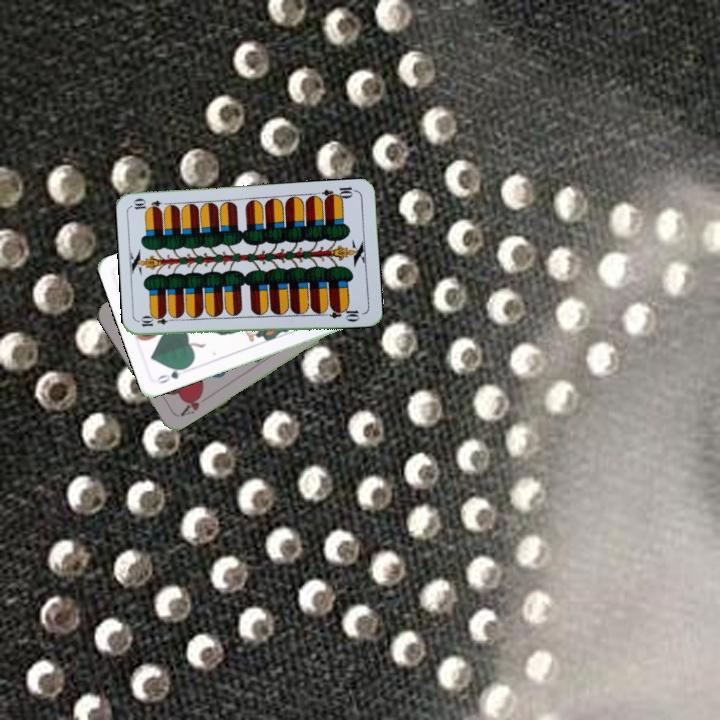E10: (318, 183, 359, 203), (137, 313, 178, 329)
GO: (152, 362, 191, 386)
HA: (174, 388, 211, 419)
